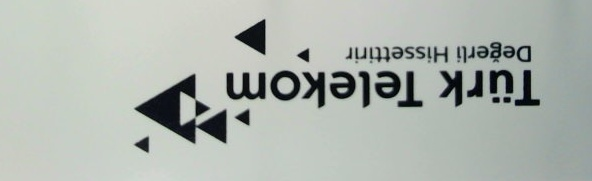AQ_TURKTelekom: (108, 19, 543, 154)
